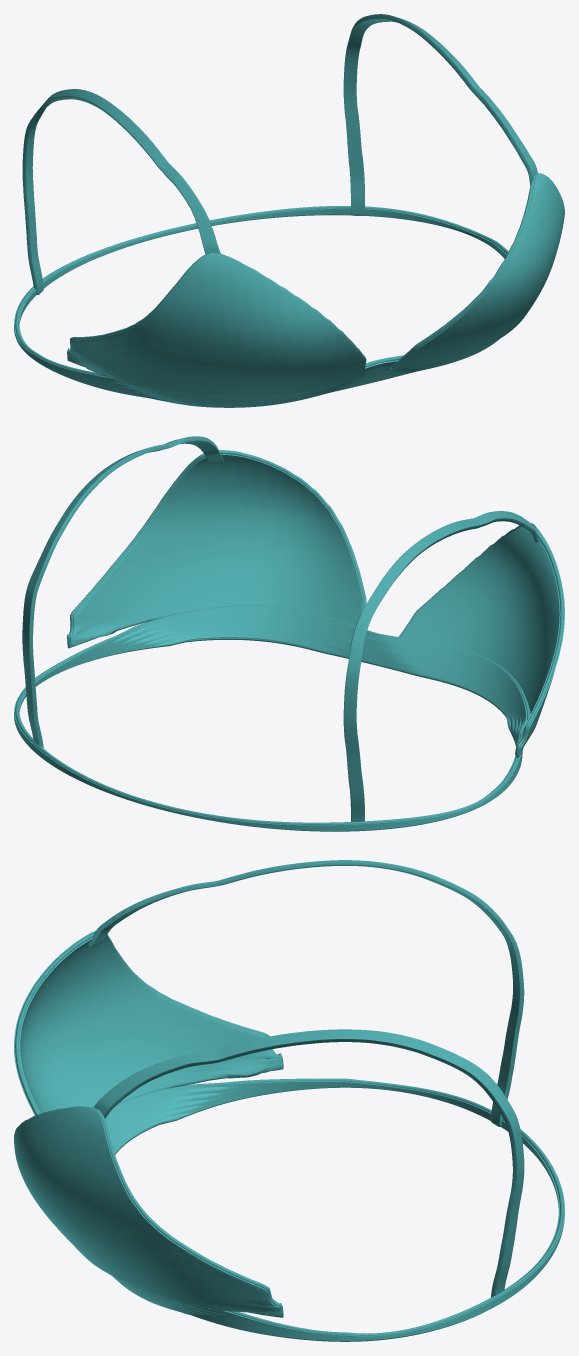
The model's file is Feminine-triangle-top.glb.
3 views of the same model, one above another, from view 1: azimuth 30°, elevation 25°; view 2: azimuth 150°, elevation 25°; view 3: azimuth 270°, elevation 25° (orthographic). The views are drawn at different scales.
Visible parts, largest first — view 1: Clothing / triangle cup -1, Clothing / triangle cup 1, Clothing / Triangle underband, Clothing / Triangle strap 1, Clothing / Triangle strap -1, Triangle underband / bound edge.001 export, Triangle / cup edge -1 export, Triangle / cup edge 1 export; view 2: Clothing / triangle cup 1, Clothing / Triangle underband, Clothing / triangle cup -1, Clothing / Triangle strap -1, Clothing / Triangle strap 1, Triangle underband / bound edge.001 export, Triangle / cup edge 1 export, Triangle / cup edge -1 export, Triangle underband / bound edge export; view 3: Clothing / triangle cup -1, Clothing / triangle cup 1, Clothing / Triangle underband, Clothing / Triangle strap 1, Clothing / Triangle strap -1, Triangle underband / bound edge.001 export, Triangle / cup edge -1 export, Triangle / cup edge 1 export, Triangle underband / bound edge export.
Boxes of the visible parts, x1,y1,x2,y2 form: Clothing / triangle cup -1: (67, 253, 365, 397); Clothing / triangle cup 1: (394, 173, 564, 369); Clothing / Triangle underband: (14, 208, 508, 407); Clothing / Triangle strap 1: (343, 14, 537, 215); Clothing / Triangle strap -1: (22, 89, 220, 294); Triangle underband / bound edge.001 export: (15, 206, 508, 376); Triangle / cup edge -1 export: (67, 252, 366, 377); Triangle / cup edge 1 export: (390, 173, 541, 369); Clothing / triangle cup 1: (67, 450, 363, 646); Clothing / Triangle underband: (14, 606, 530, 830); Clothing / triangle cup -1: (400, 523, 564, 755); Clothing / Triangle strap -1: (343, 511, 538, 822); Clothing / Triangle strap 1: (22, 436, 223, 747); Triangle underband / bound edge.001 export: (15, 605, 529, 824); Triangle / cup edge 1 export: (67, 450, 366, 648); Triangle / cup edge -1 export: (399, 523, 563, 757); Triangle underband / bound edge export: (86, 637, 506, 831); Clothing / triangle cup -1: (14, 930, 282, 1115); Clothing / triangle cup 1: (14, 1107, 280, 1316); Clothing / Triangle underband: (105, 1081, 564, 1340); Clothing / Triangle strap 1: (93, 1029, 524, 1297); Clothing / Triangle strap -1: (87, 860, 524, 1126); Triangle underband / bound edge.001 export: (115, 1078, 563, 1335); Triangle / cup edge -1 export: (15, 932, 283, 1114); Triangle / cup edge 1 export: (25, 1106, 283, 1317); Triangle underband / bound edge export: (115, 1087, 481, 1341).
Size of the model in its own units: 0.5845 by 0.2873 by 0.5303.
